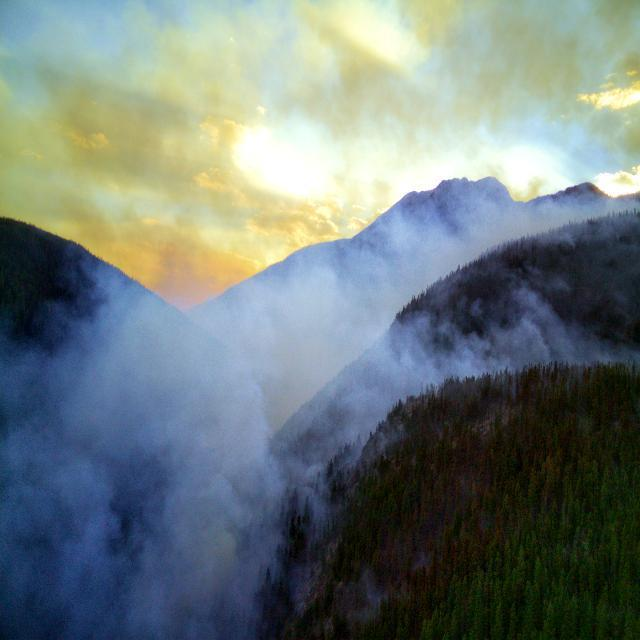Smoke: (6, 205, 381, 612), (352, 164, 640, 378)
